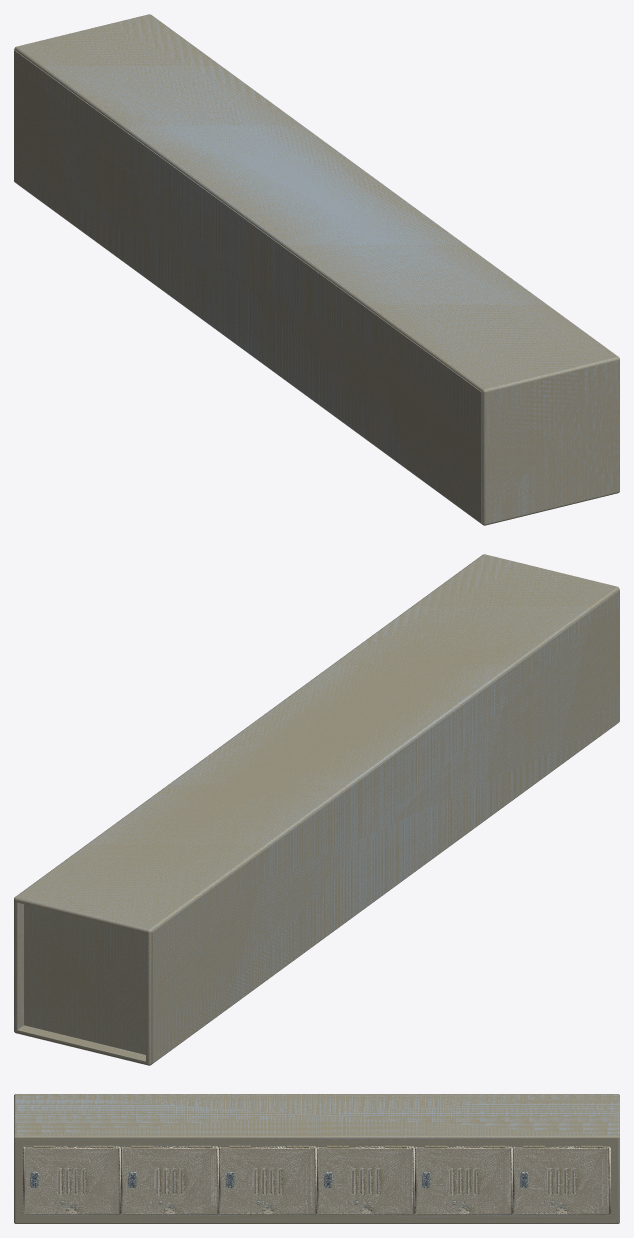
File: VRlab-locker.fbx
3 renders of one model, top to bottom at view 1: azimuth 30°, elevation 25°; view 2: azimuth 150°, elevation 25°; view 3: azimuth 270°, elevation 25°, orthographic. The views are drawn at different scales.
Visible parts, largest first — view 1: Lockers1; view 2: Lockers1; view 3: Lockers1, Group69, Group73, Group67, Group71, Group75, Group77.
Boxes of the visible parts, box(x1,y1,x2,y2) form: Lockers1: box(14, 14, 619, 525); Lockers1: box(14, 554, 619, 1065); Lockers1: box(14, 1094, 619, 1223); Group69: box(121, 1146, 218, 1214); Group73: box(23, 1146, 120, 1214); Group67: box(219, 1146, 316, 1214); Group71: box(317, 1146, 414, 1214); Group75: box(415, 1146, 512, 1214); Group77: box(513, 1146, 610, 1214).
Size of the model in its own units: 13.09 by 11.2 by 69.98.
